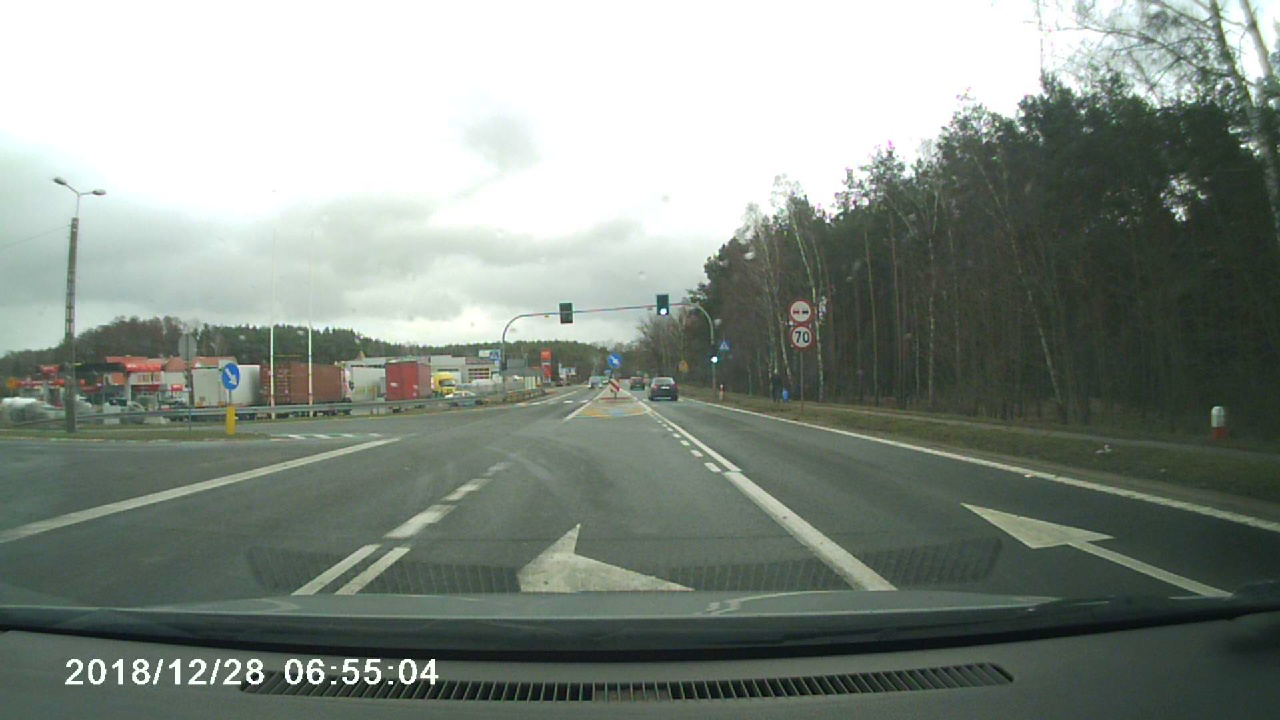B25: (788, 296, 818, 323)
B33_70: (787, 324, 820, 352)
C9: (214, 359, 246, 391)
